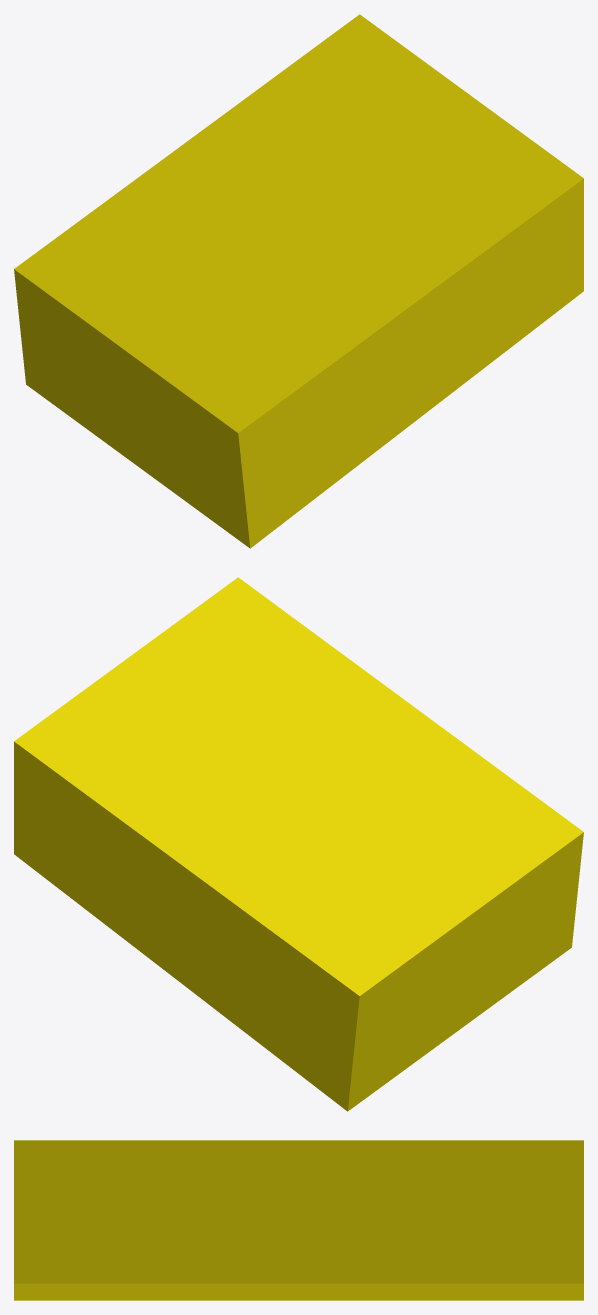
The model's file is Bastion_Stair_03_Lod1.fbx.
3 views of the same model, one above another, from view 1: azimuth 30°, elevation 25°; view 2: azimuth 150°, elevation 25°; view 3: azimuth 270°, elevation 25° (orthographic). The views are drawn at different scales.
Visible parts, largest first — view 1: Bastion_Stair_03_Lod1; view 2: Bastion_Stair_03_Lod1; view 3: Bastion_Stair_03_Lod1.
Boxes of the visible parts, x1,y1,x2,y2 form: Bastion_Stair_03_Lod1: (14,14,583,548); Bastion_Stair_03_Lod1: (14,577,583,1111); Bastion_Stair_03_Lod1: (14,1140,583,1300).
Bounding box in the file's own units: 157 × 125 × 176.
